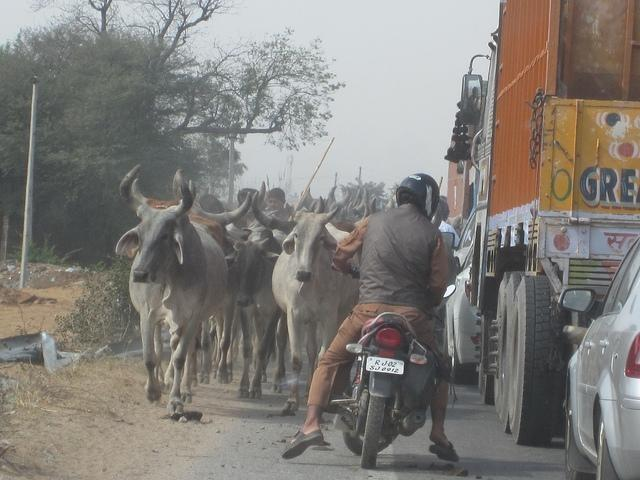car: (558, 235, 640, 480), (446, 242, 480, 382)
motorcycle: (326, 308, 434, 471)
truck: (456, 0, 640, 449)
